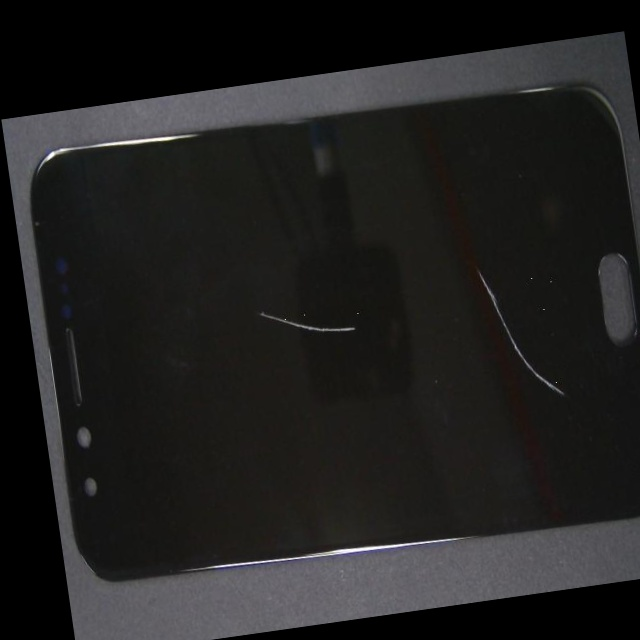scratch: (64, 163, 417, 477), (284, 186, 640, 444)
